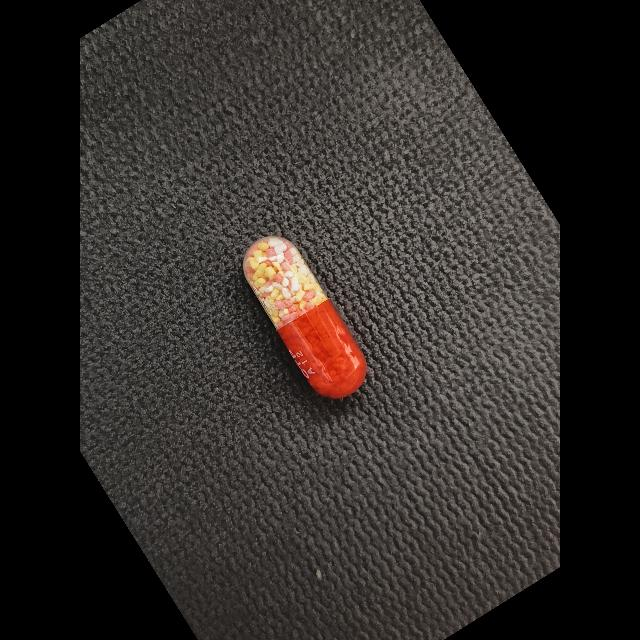Intact Capsule: (243, 236, 367, 399)
